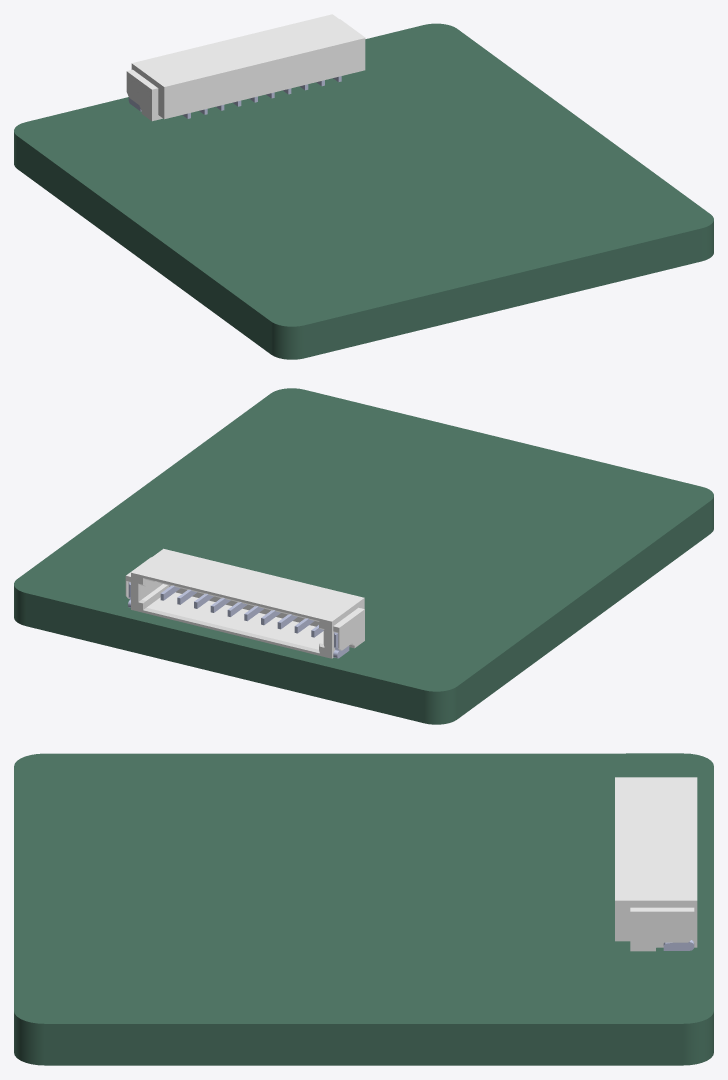
The picture shows the model from 3 angles, top to bottom: view 1: azimuth 30°, elevation 25°; view 2: azimuth 150°, elevation 25°; view 3: azimuth 270°, elevation 25°; orthographic projection. The views are drawn at different scales.
Parts seen in each view (by area): view 1: =>[0:1:1:4], =>[0:1:1:3]; view 2: =>[0:1:1:4], =>[0:1:1:3]; view 3: =>[0:1:1:4], =>[0:1:1:3].
Part boxes in pixels (<box>): =>[0:1:1:4]: <box>14,23,713,359</box>; =>[0:1:1:3]: <box>126,14,365,121</box>; =>[0:1:1:4]: <box>14,388,713,724</box>; =>[0:1:1:3]: <box>125,548,364,658</box>; =>[0:1:1:4]: <box>14,753,713,1065</box>; =>[0:1:1:3]: <box>615,777,697,951</box>.
Bounding box in the file's own units: 0.021 × 0.00331 × 0.023.
